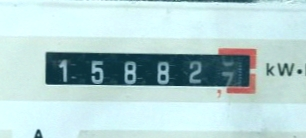1: (55, 52, 69, 80)
2: (186, 54, 202, 82)
5: (87, 53, 105, 81)
7: (218, 65, 234, 82)
8: (120, 54, 136, 83), (154, 54, 169, 82)
screen: (29, 31, 266, 99)
